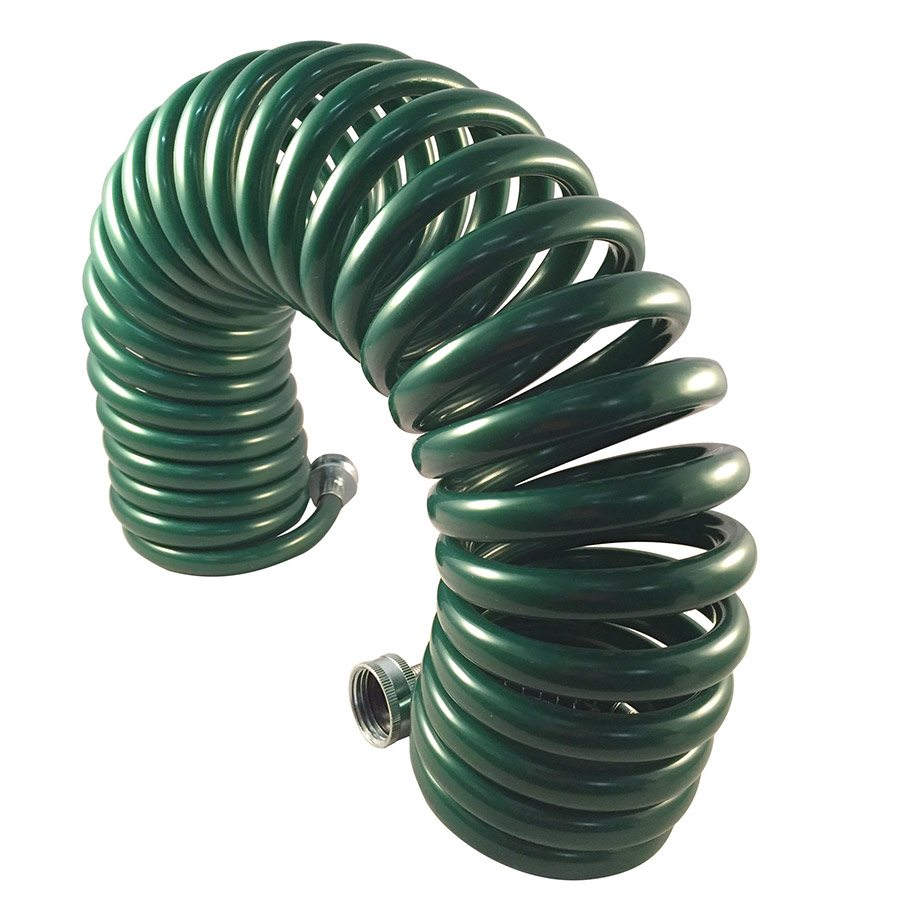Nonrec_Tangler: (35, 27, 782, 871)
